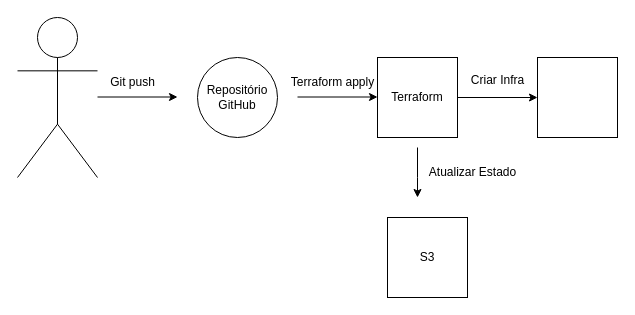
Image size: 635x315. Some labels were removed from this diagram. Here are the shapes that lost their labels. From the top down, the box of each, then its label:
(16, 16, 98, 178): Dev
(536, 56, 618, 138): EC2, Security Group, etc
